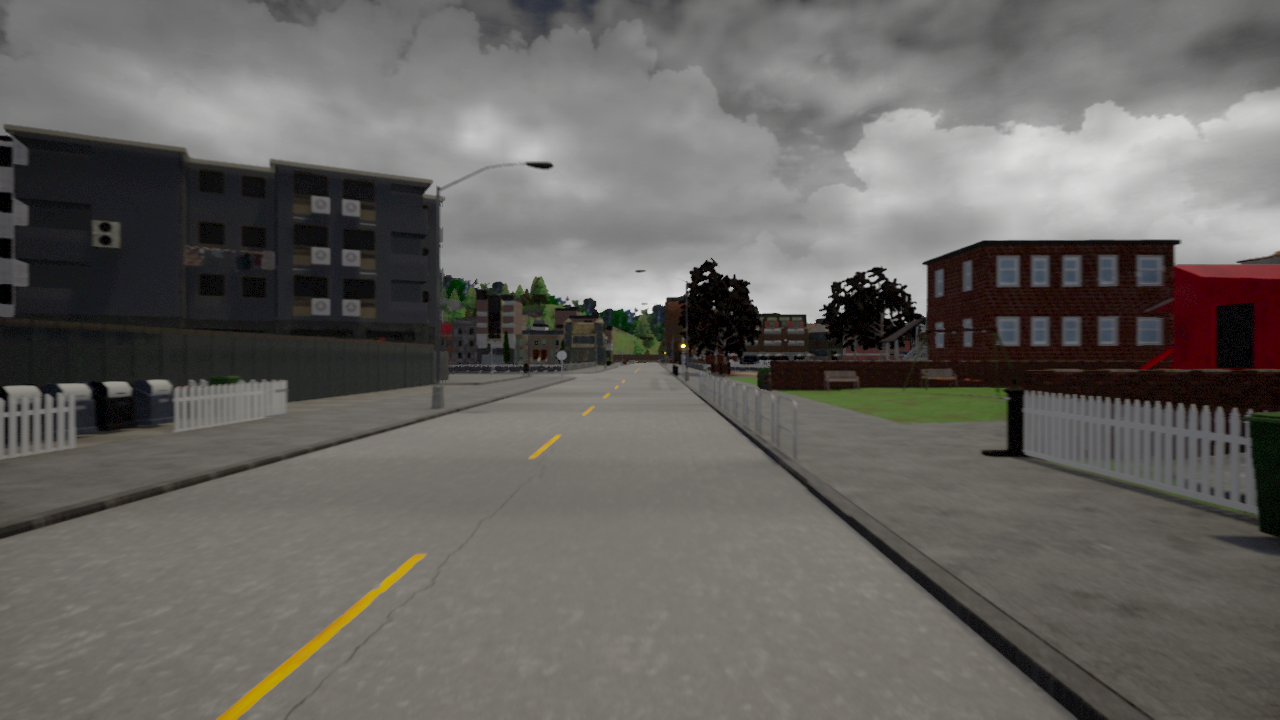yellow: (679, 339, 687, 354)
